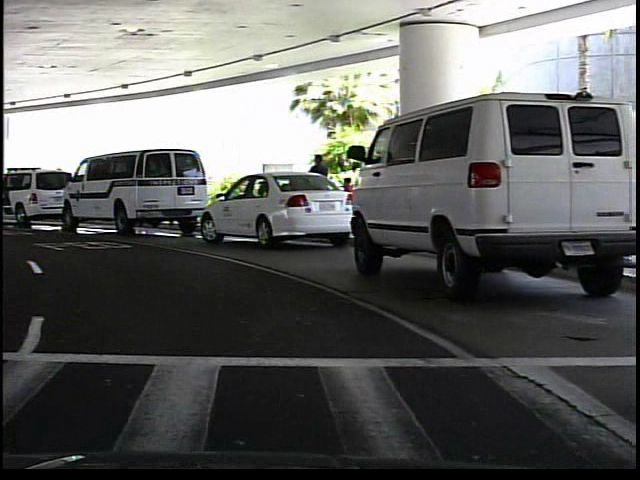person: (304, 150, 334, 227), (339, 175, 355, 229)
